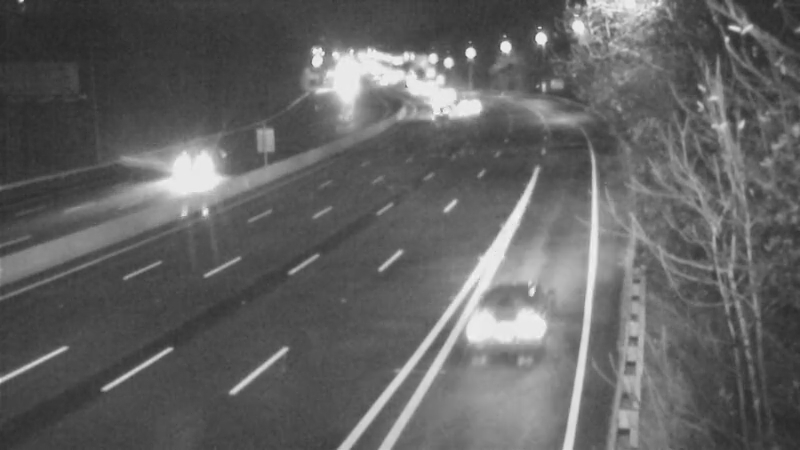vehicle: (450, 278, 560, 388), (158, 126, 238, 206), (444, 83, 494, 133), (415, 90, 465, 140)
